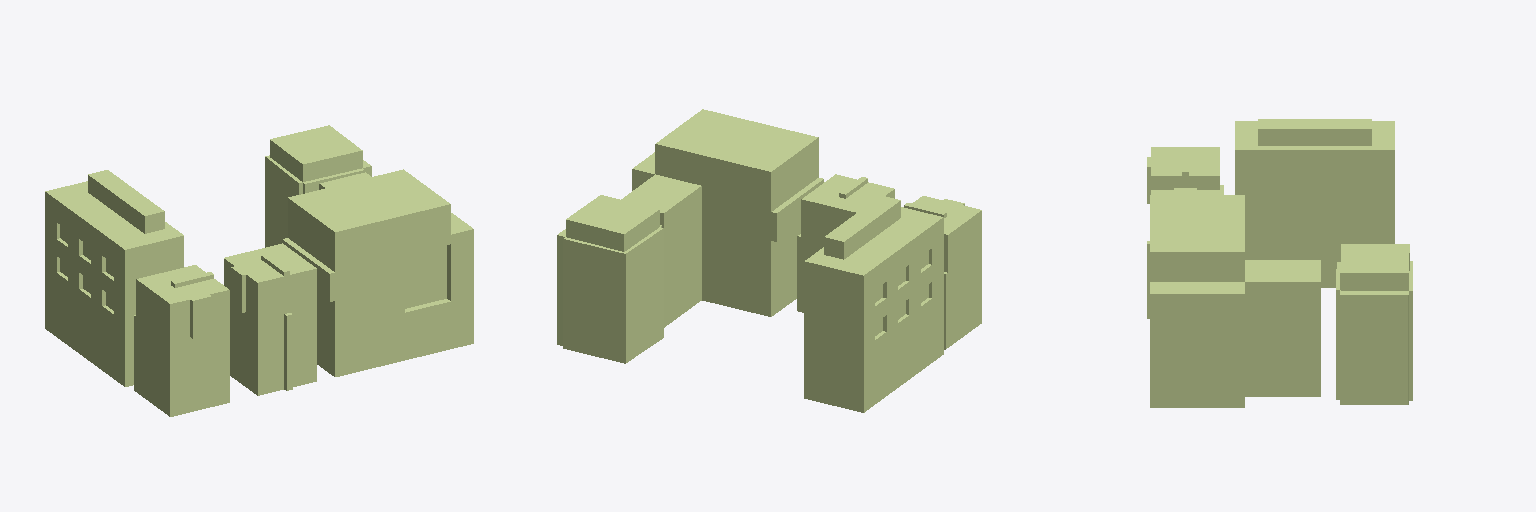
Rendered from city_005.obj.
3 renders of one model, left to right at view 1: azimuth 30°, elevation 25°; view 2: azimuth 150°, elevation 25°; view 3: azimuth 270°, elevation 25°, orthographic.
Visible parts, largest first — view 1: Box034, Box033, Box018, Box015, Box035; view 2: Box034, Box033, Box035, Box018, Box015; view 3: Box034, Box033, Box035, Box018, Box015.
Boxes of the visible parts, x1,y1,x2,y2 form: Box034: [282, 169, 473, 376]; Box033: [45, 170, 183, 386]; Box018: [134, 265, 229, 416]; Box015: [224, 243, 316, 395]; Box035: [265, 125, 371, 247]; Box034: [621, 109, 823, 327]; Box033: [804, 195, 943, 412]; Box035: [557, 195, 663, 363]; Box018: [904, 196, 981, 349]; Box015: [797, 174, 894, 312]; Box034: [1150, 195, 1320, 407]; Box033: [1235, 119, 1394, 287]; Box035: [1336, 244, 1412, 404]; Box018: [1147, 147, 1223, 203]; Box015: [1147, 188, 1219, 318].
Bounding box in the file's own units: 6.11 × 2.96 × 4.6.